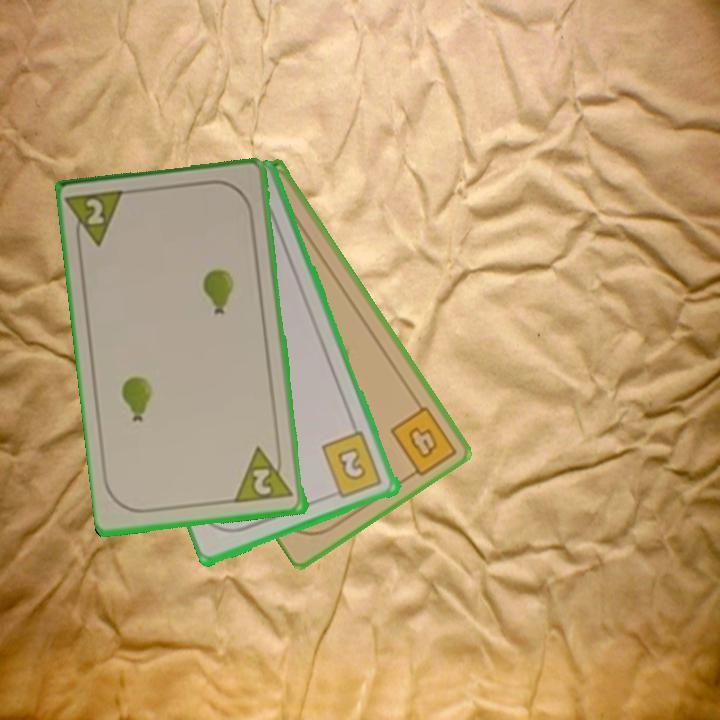2b: (319, 428, 385, 502)
2p: (66, 187, 131, 253), (233, 442, 297, 506)
4b: (387, 402, 459, 482)
